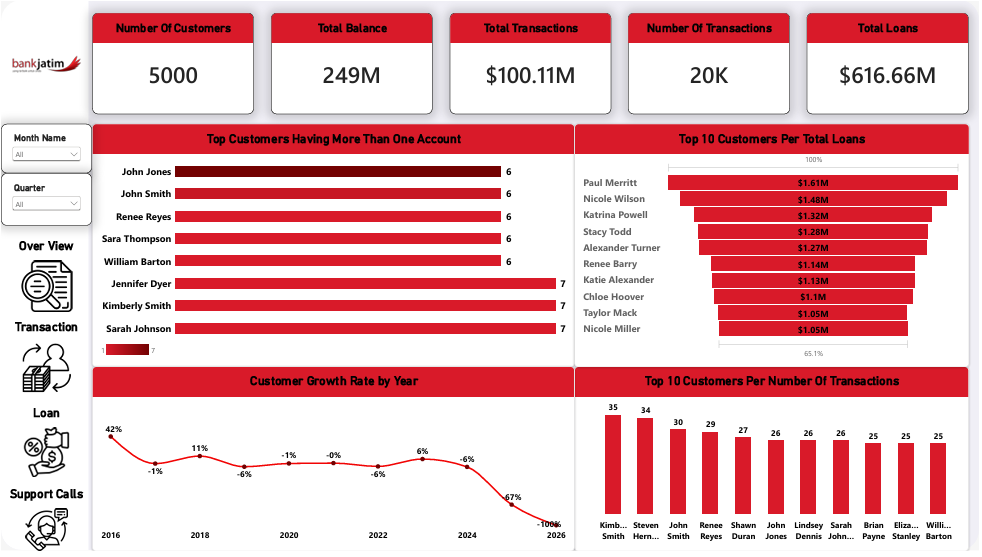

Layout of this report page (visuals, bound fields, positions):
{"tool":"powerbi","page":{"name":"Customer","canvas":[1920,1080],"ordinal":2},"visuals":[{"type":"columnChart","title":"Top 10 Customers Per Number Of Transactions","fields":{"Y":["_Measure.Total Transaction"],"Category":["DimCustomers.Full Name"]},"box":[1126.3,718.1,773.5,362.8],"z":0},{"type":"barChart","title":"Top Customers Having More Than One Account","fields":{"Y":["_Measure.Number Of Accounts"],"Category":["DimCustomers.Full Name"]},"box":[179.2,241.1,947.2,477.9],"z":1000},{"type":"lineChart","fields":{"Y":["_Measure.Customer Growth Rate"],"Category":["DimDate.Year"]},"box":[178.9,718.1,947.4,362.8],"z":2000},{"type":"funnel","title":"Top 10 Customers Per Total Loans","fields":{"Y":["_Measure.Total Loans"],"Category":["DimCustomers.Full Name"]},"box":[1126.4,241.1,774.4,477.9],"z":3000},{"type":"card","title":"Number Of Customers","fields":{"Values":["_Measure.Number Of Customers"]},"box":[178.9,22.7,317.5,199.1],"z":4000},{"type":"card","title":"Total Transactions","fields":{"Values":["_Measure.Transaction Amount"]},"box":[880.6,22.7,317.5,199.1],"z":5000},{"type":"card","title":"Total Balance","fields":{"Values":["_Measure.Total Balance"]},"box":[529.8,22.7,317.5,199.1],"z":6000},{"type":"card","title":"Number Of Transactions","fields":{"Values":["_Measure.Total Transaction"]},"box":[1231.5,22.7,317.5,199.1],"z":7000},{"type":"card","title":"Total Loans","fields":{"Values":["_Measure.Total Loans"]},"box":[1582.4,22.7,317.5,199.1],"z":8000},{"type":"image","box":[0,23.4,178.6,199.8],"z":9000},{"type":"image","title":"Transaction","box":[0,626.9,178.4,144.3],"z":10000},{"type":"image","title":"Loan","box":[0,794.8,178.4,141.6],"z":11000},{"type":"image","title":"Support Calls","box":[0,954.1,178.4,125.9],"z":12000},{"type":"slicer","fields":{"Values":["DimDate.Month Name"]},"box":[0,241.3,178.4,97],"z":13000},{"type":"slicer","fields":{"Values":["DimDate.Quarter"]},"box":[0,338.4,178.4,102.3],"z":14000},{"type":"image","title":"Over View","box":[0,467.2,178.4,144.3],"z":15000}]}

Visuals, with their boxes in screenshot pixels (x1, y1, x2, y2), scaled from the page's 1920x1080 canvas onto the 982x557 screenshot:
"Top 10 Customers Per Number Of Transactions" columnChart: 576/370/972/556
"Top Customers Having More Than One Account" barChart: 92/124/576/371
lineChart - _Measure.Customer Growth Rate x DimDate.Year: 91/370/576/556
"Top 10 Customers Per Total Loans" funnel: 576/124/972/371
"Number Of Customers" card: 91/12/254/114
"Total Transactions" card: 450/12/613/114
"Total Balance" card: 271/12/433/114
"Number Of Transactions" card: 630/12/792/114
"Total Loans" card: 809/12/972/114
image: 0/12/91/115
"Transaction" image: 0/323/91/398
"Loan" image: 0/410/91/483
"Support Calls" image: 0/492/91/556
slicer - DimDate.Month Name: 0/124/91/174
slicer - DimDate.Quarter: 0/175/91/227
"Over View" image: 0/241/91/315
